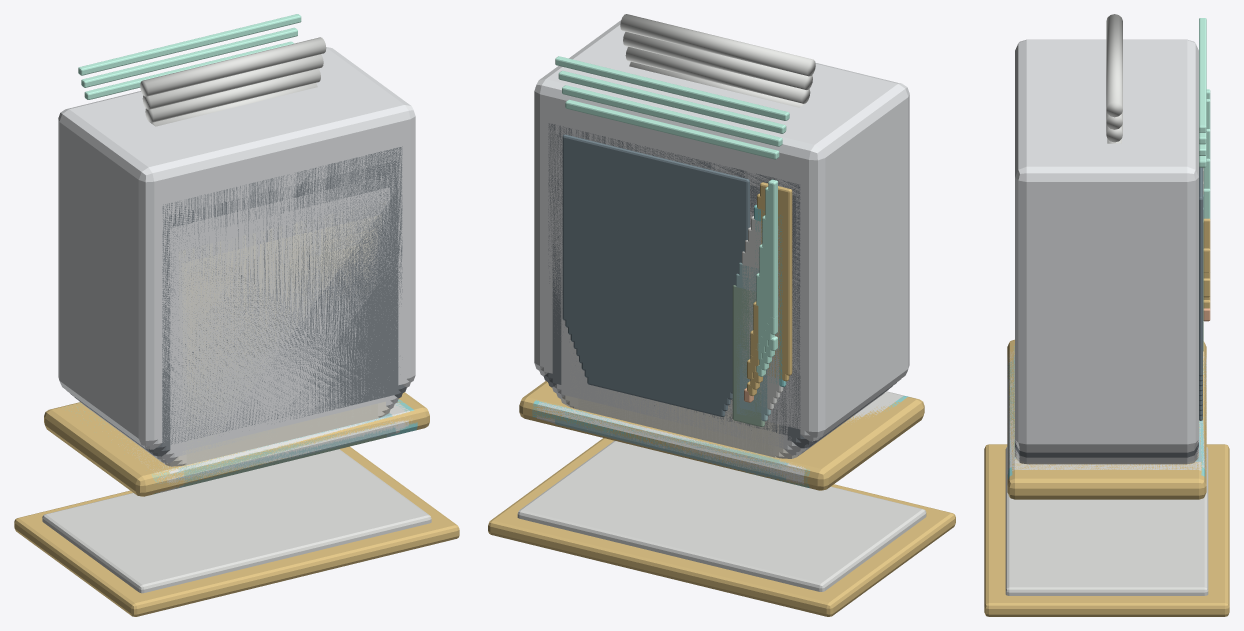
The model's file is Gear06.fbx.
The picture shows the model from 3 angles, left to right: view 1: azimuth 30°, elevation 25°; view 2: azimuth 150°, elevation 25°; view 3: azimuth 270°, elevation 25°; orthographic projection. The views are drawn at different scales.
Visible parts, largest first — view 1: Gear06_V10_Platinum, Gear06_V6_Platinum, Gear06_V7_Graphite, Gear06_V5_Chrome, Gear06_V10_Gold, Gear06_V6_Chrome, Gear06_V5_Platinum, Gear06_V9_Gold, Gear06_V2_Ivory, Gear06_V3_Linen, Gear06_V8_Graphite, Gear06_V10_Chrome (+12 smaller); view 2: Gear06_V10_Platinum, Gear06_V10_Gold, Gear06_V10_Glass, Gear06_V6_Chrome, Gear06_V5_Chrome, Gear06_V2_Glass, Gear06_V6_Glass, Gear06_V1_Glass, Gear06_V5_Glass, Gear06_V9_Platinum, Gear06_V10_Chrome, Gear06_V9_Gold (+22 smaller); view 3: Gear06_V10_Platinum, Gear06_V10_Gold, Gear06_V6_Chrome, Gear06_V4_Chrome, Gear06_V5_Chrome, Gear06_V10_Chrome, Gear06_V9_Gold, Gear06_V7_Chrome, Gear06_V10_Glow, Gear06_V10_Glass, Gear06_V9_Chrome, Gear06_V8_Graphite (+6 smaller).
Part boxes in pixels (bbox=[...]): Gear06_V10_Platinum: bbox=[58, 47, 415, 446]; Gear06_V6_Platinum: bbox=[78, 175, 398, 459]; Gear06_V7_Graphite: bbox=[74, 160, 402, 456]; Gear06_V5_Chrome: bbox=[66, 407, 409, 581]; Gear06_V10_Gold: bbox=[14, 392, 459, 616]; Gear06_V6_Chrome: bbox=[62, 404, 412, 583]; Gear06_V5_Platinum: bbox=[83, 187, 394, 463]; Gear06_V9_Gold: bbox=[23, 399, 452, 615]; Gear06_V2_Ivory: bbox=[185, 228, 378, 465]; Gear06_V3_Linen: bbox=[175, 214, 386, 466]; Gear06_V8_Graphite: bbox=[70, 146, 406, 452]; Gear06_V10_Chrome: bbox=[42, 37, 431, 593]; Gear06_V10_Platinum: bbox=[534, 20, 909, 437]; Gear06_V10_Gold: bbox=[488, 182, 955, 616]; Gear06_V10_Glass: bbox=[562, 134, 749, 357]; Gear06_V6_Chrome: bbox=[537, 227, 904, 587]; Gear06_V5_Chrome: bbox=[541, 240, 901, 580]; Gear06_V2_Glass: bbox=[584, 240, 727, 411]; Gear06_V6_Glass: bbox=[573, 188, 735, 383]; Gear06_V1_Glass: bbox=[587, 251, 725, 416]; Gear06_V5_Glass: bbox=[576, 202, 732, 393]; Gear06_V9_Platinum: bbox=[539, 109, 900, 441]; Gear06_V10_Chrome: bbox=[517, 14, 926, 591]; Gear06_V9_Gold: bbox=[495, 193, 948, 615]; Gear06_V10_Platinum: bbox=[1015, 39, 1198, 450]; Gear06_V10_Gold: bbox=[984, 339, 1229, 616]; Gear06_V6_Chrome: bbox=[1005, 167, 1208, 581]; Gear06_V4_Chrome: bbox=[1005, 181, 1208, 560]; Gear06_V5_Chrome: bbox=[1005, 168, 1208, 577]; Gear06_V10_Chrome: bbox=[1005, 14, 1208, 595]; Gear06_V9_Gold: bbox=[984, 342, 1229, 604]; Gear06_V7_Chrome: bbox=[1005, 139, 1208, 583]; Gear06_V10_Glow: bbox=[1199, 18, 1210, 132]; Gear06_V10_Glass: bbox=[1199, 167, 1202, 376]; Gear06_V9_Chrome: bbox=[1006, 111, 1208, 587]; Gear06_V8_Graphite: bbox=[1015, 442, 1198, 455].
Bounding box in the file's own units: 100 × 138 × 64.
